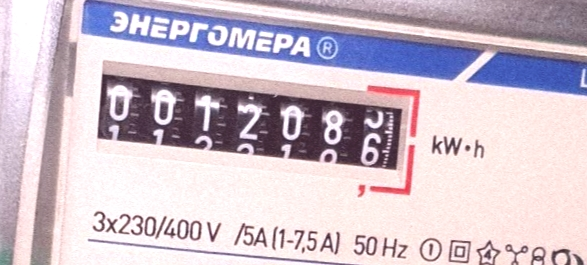0: (147, 84, 178, 127), (104, 78, 131, 122), (277, 101, 303, 141)
1: (192, 90, 216, 132)
2: (234, 100, 262, 141)
6: (355, 129, 381, 166)
8: (319, 105, 344, 146)
screen: (83, 45, 431, 208)
